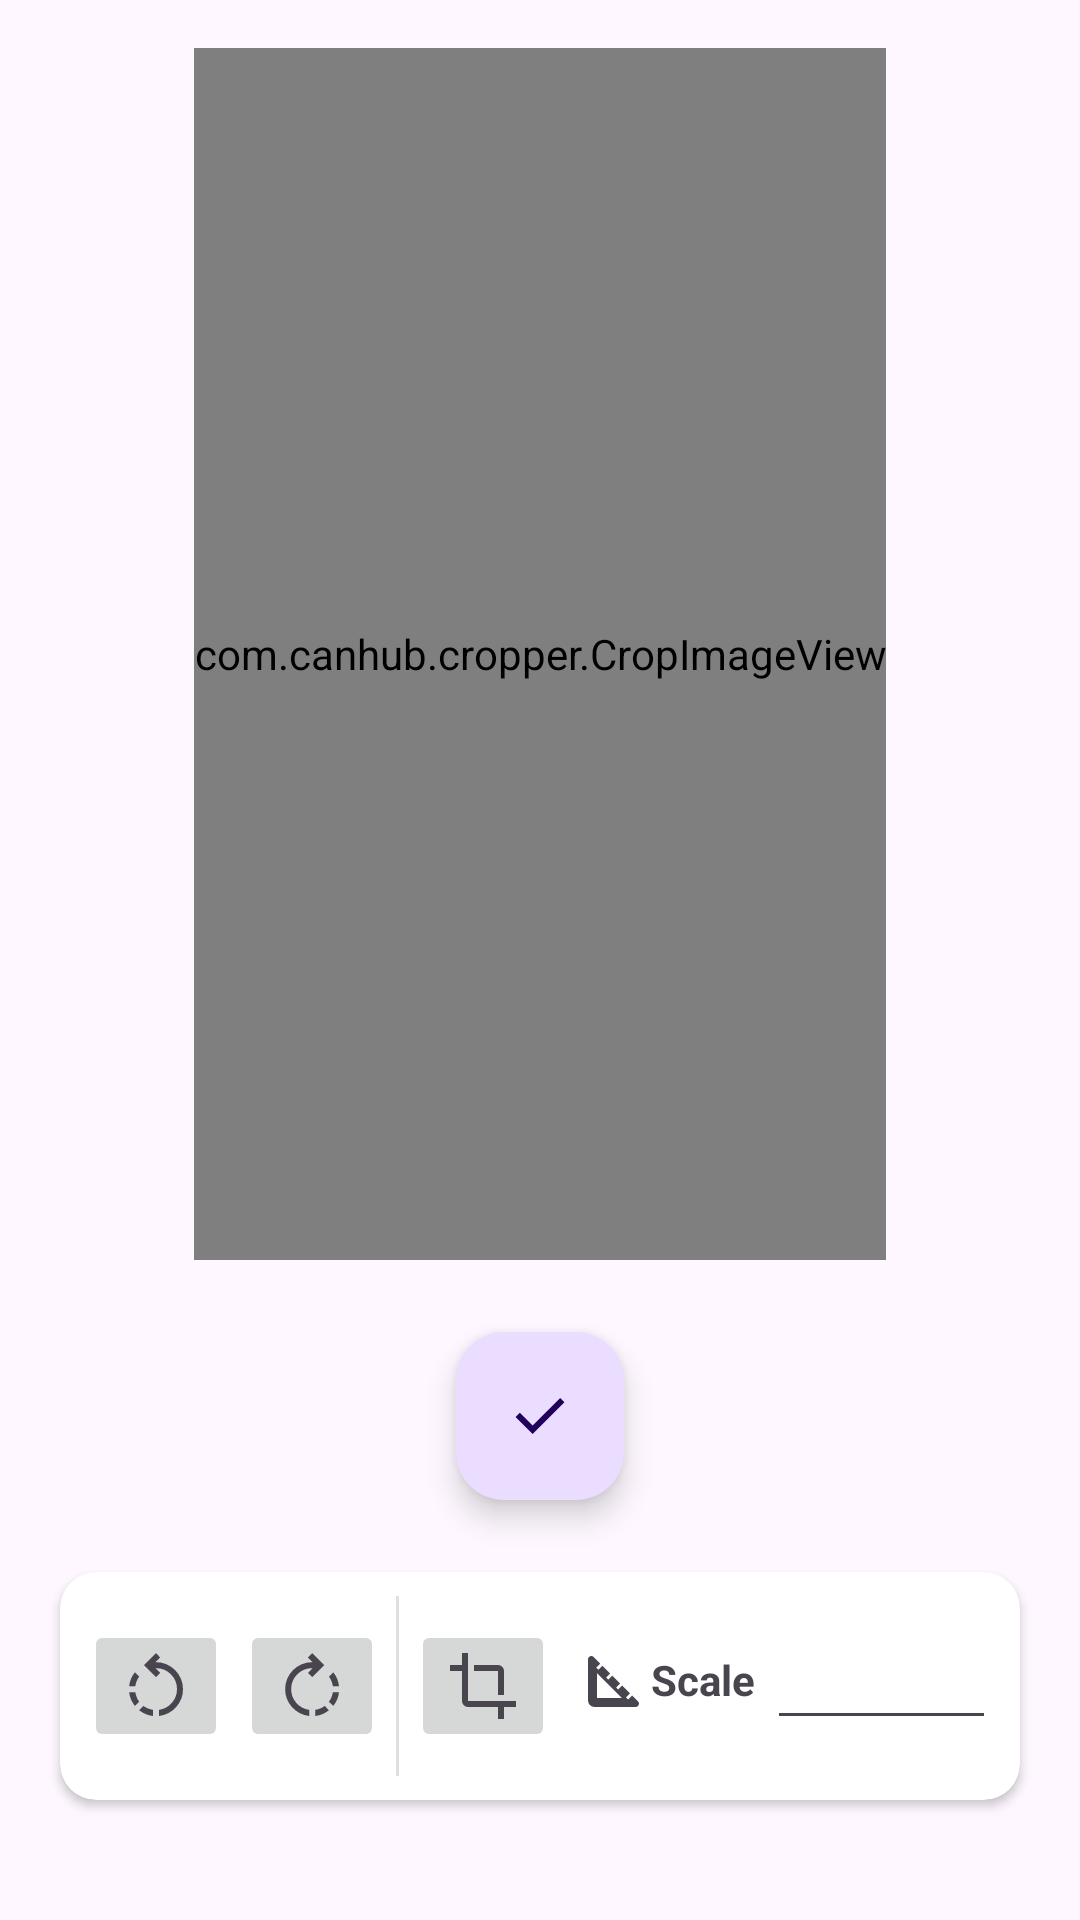

Screen size 1080px×1920px. Icon name, then its box in pixels as [x1=x1, y1=y1, x2=x2, y2=y2]:
crop: [x1=423, y1=1638, x2=543, y2=1734]
rotate left: [x1=96, y1=1638, x2=216, y2=1734]
rotate right: [x1=252, y1=1638, x2=372, y2=1734]
